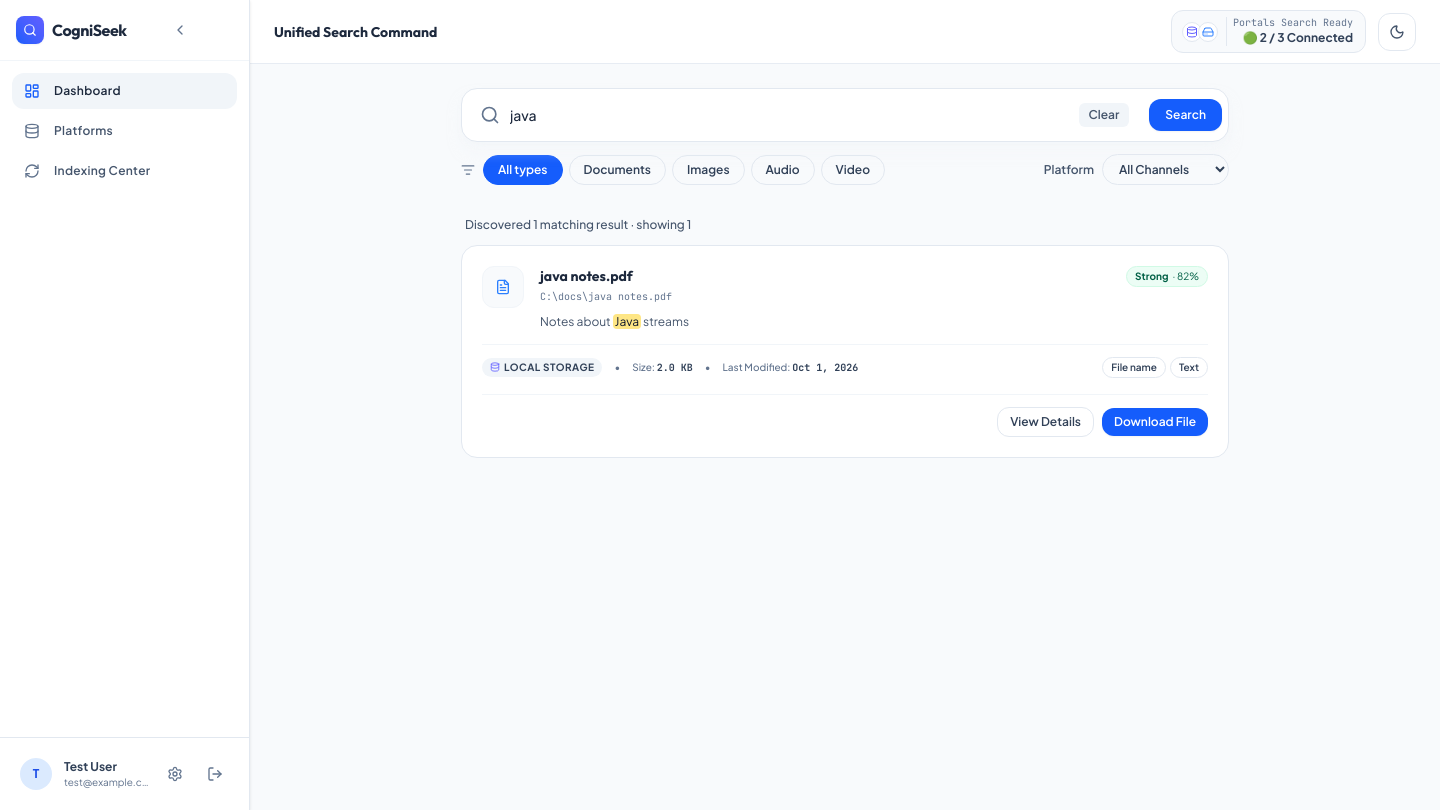
open a result › downloads local files with the token as a blob under the real file name
This screenshot has width=1440, height=810.
Click the button with aria-label "Download java notes.pdf" at (1155, 422), box [1102,408,1208,436]
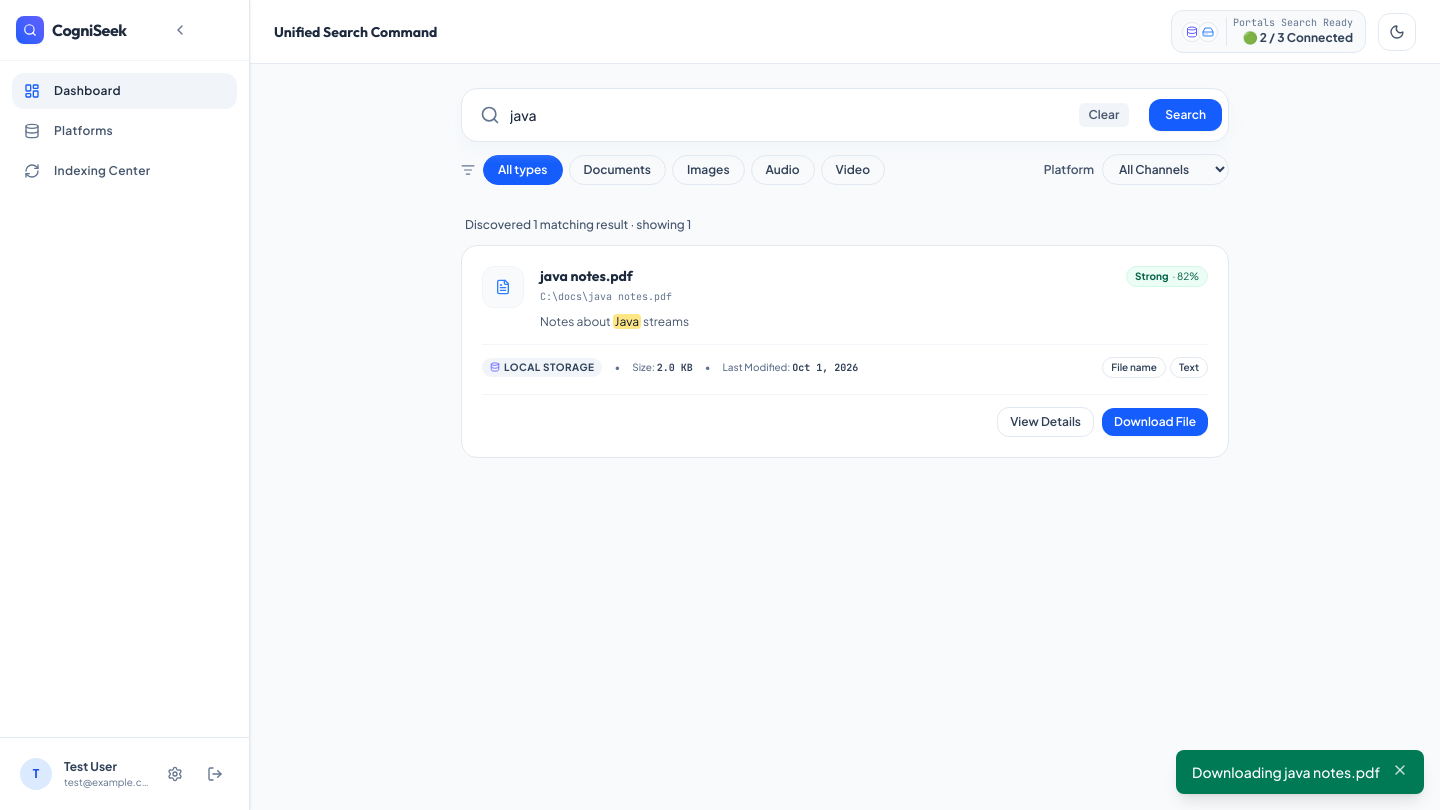
Check: the text "Downloading java notes.pdf" is shown, box [1192,762,1380,782]
